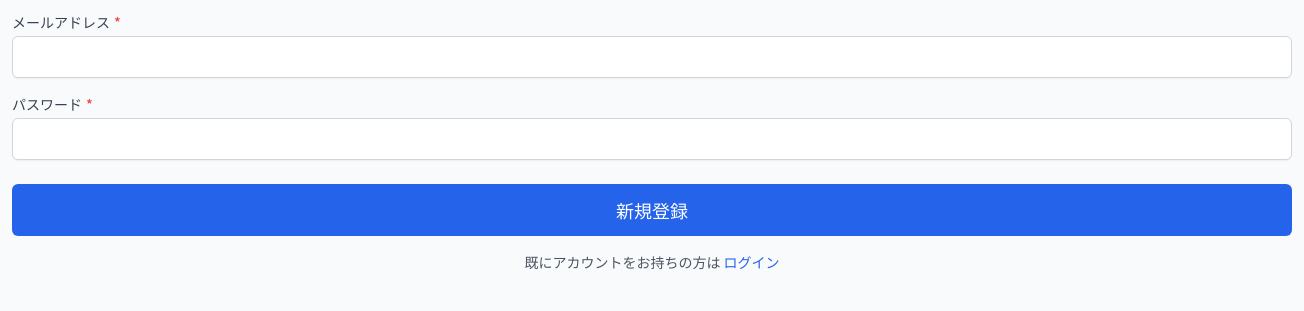
Test case: RegisterForm › パスワードが7文字以下のときエラーが表示される
In the field labelled "メールアドレス*": (652, 57) [12, 36, 1292, 78], type "user@example.com"
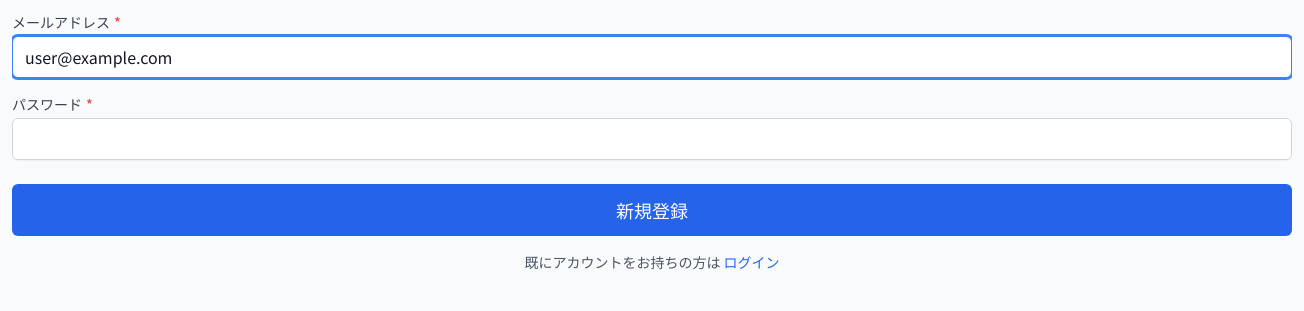
In the password field labelled "パスワード*": (652, 139) [12, 118, 1292, 160], type "1234567"
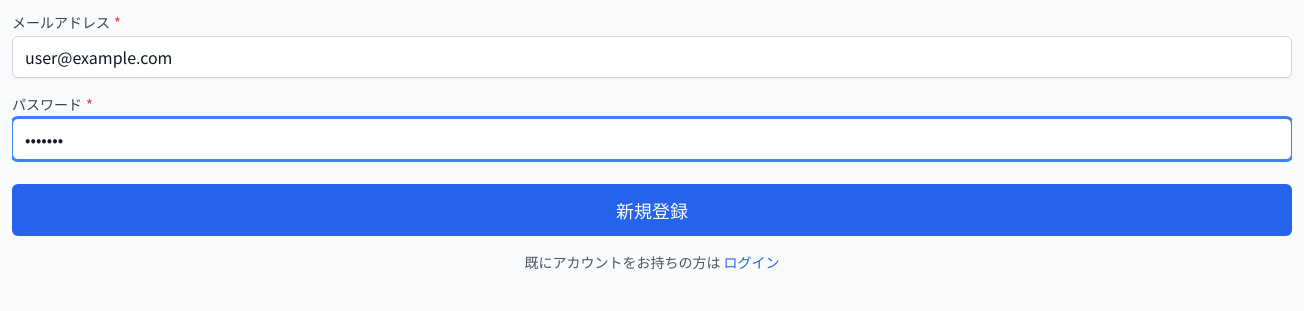
Click the button "新規登録": (652, 210) [12, 184, 1292, 236]
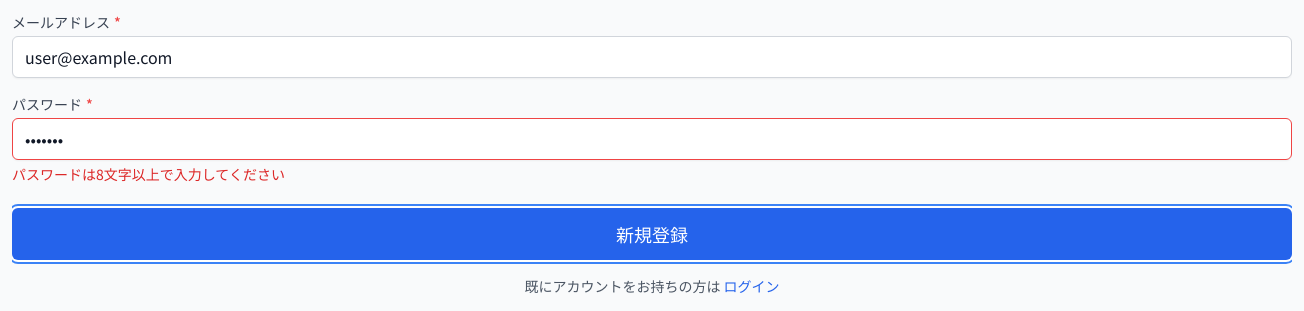
Now the text "パスワードは8文字以上で入力してください" is shown, box [12, 164, 285, 184]
